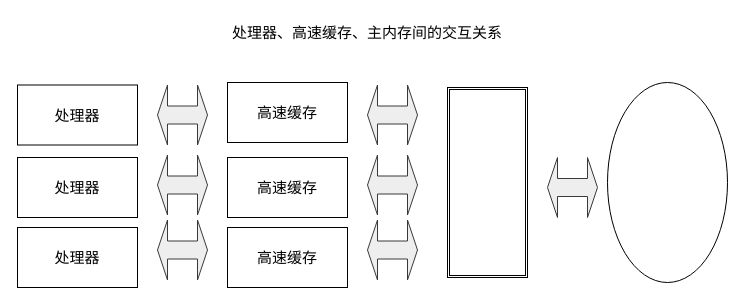
The diagram is 745 pixels wide and 305 high, and some of its shapes have lost their labels. Here are the shapes that lost their labels. From the top down, the centre of each, then its label:
the point at 487,182: 缓存一致性协议
the point at 667,182: 主内存
